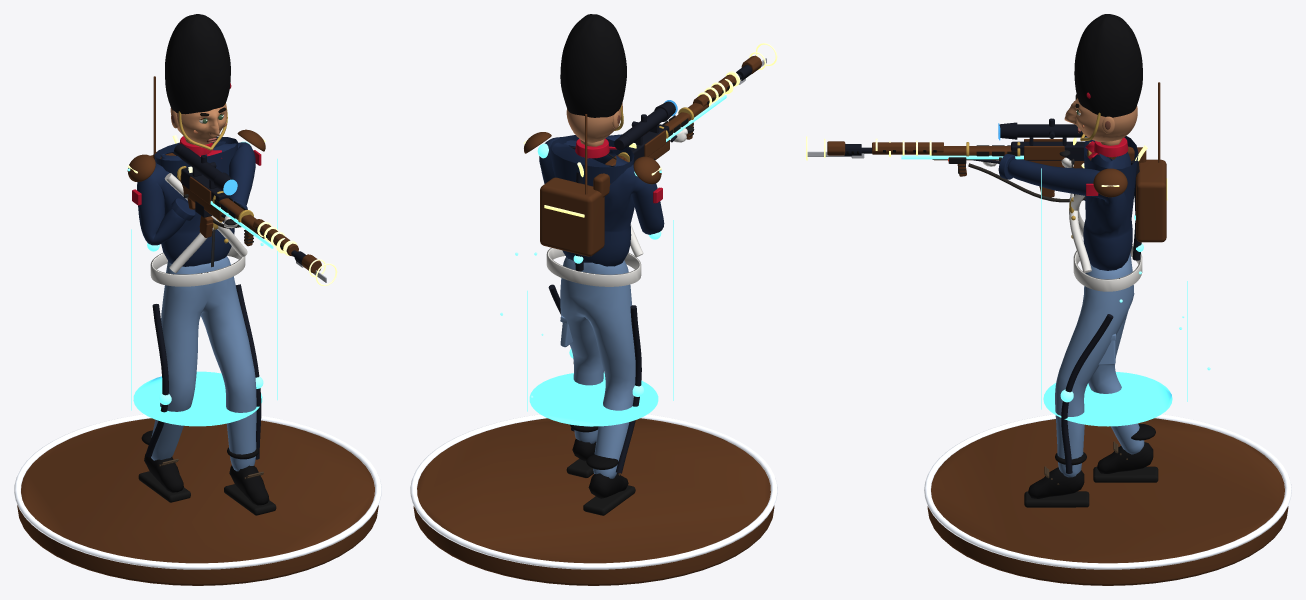
File: skytte_kbh.glb
3 views of the same model, side by side, from view 1: azimuth 30°, elevation 25°; view 2: azimuth 150°, elevation 25°; view 3: azimuth 270°, elevation 25° (orthographic).
Visible parts, largest first — view 1: fod_net, menneske_net, hoved_net, op4.001_net, op1.001_net, vaaben_net, op4_net, op3_net, op3.001_net, op4.002_net; view 2: fod_net, menneske_net, hoved_net, op3.001_net, op4.001_net, vaaben_net, op1.001_net, op4_net, op3_net, op4.002_net; view 3: fod_net, menneske_net, hoved_net, op4.001_net, op3.001_net, vaaben_net, op1.001_net, op3_net, op4_net, op4.002_net, op1_net.
Part boxes in pixels (x1=…): fod_net: x1=14, y1=414, x2=381, y2=585; menneske_net: x1=137, y1=136, x2=276, y2=515; hoved_net: x1=165, y1=14, x2=231, y2=150; op4.001_net: x1=127, y1=158, x2=277, y2=426; op1.001_net: x1=132, y1=173, x2=247, y2=286; vaaben_net: x1=153, y1=144, x2=302, y2=264; op4_net: x1=145, y1=141, x2=263, y2=459; op3_net: x1=189, y1=176, x2=321, y2=273; op3.001_net: x1=127, y1=76, x2=265, y2=181; op4.002_net: x1=172, y1=135, x2=337, y2=285; fod_net: x1=410, y1=414, x2=777, y2=585; menneske_net: x1=539, y1=126, x2=694, y2=515; hoved_net: x1=560, y1=14, x2=626, y2=143; op3.001_net: x1=523, y1=114, x2=661, y2=256; op4.001_net: x1=500, y1=170, x2=673, y2=426; vaaben_net: x1=593, y1=73, x2=751, y2=197; op1.001_net: x1=546, y1=187, x2=662, y2=286; op4_net: x1=537, y1=143, x2=661, y2=473; op3_net: x1=644, y1=55, x2=761, y2=156; op4.002_net: x1=577, y1=43, x2=777, y2=177; fod_net: x1=924, y1=414, x2=1291, y2=585; menneske_net: x1=982, y1=136, x2=1158, y2=507; hoved_net: x1=1064, y1=14, x2=1142, y2=142; op4.001_net: x1=1041, y1=168, x2=1210, y2=426; op3.001_net: x1=1093, y1=82, x2=1167, y2=242; vaaben_net: x1=846, y1=118, x2=1146, y2=168; op1.001_net: x1=1069, y1=193, x2=1142, y2=291; op3_net: x1=827, y1=139, x2=1064, y2=197; op4_net: x1=1060, y1=160, x2=1143, y2=473; op4.002_net: x1=806, y1=136, x2=1147, y2=168; op1_net: x1=844, y1=123, x2=1085, y2=202.
Size of the model in its own units: 1.94 by 2.88 by 2.56.
